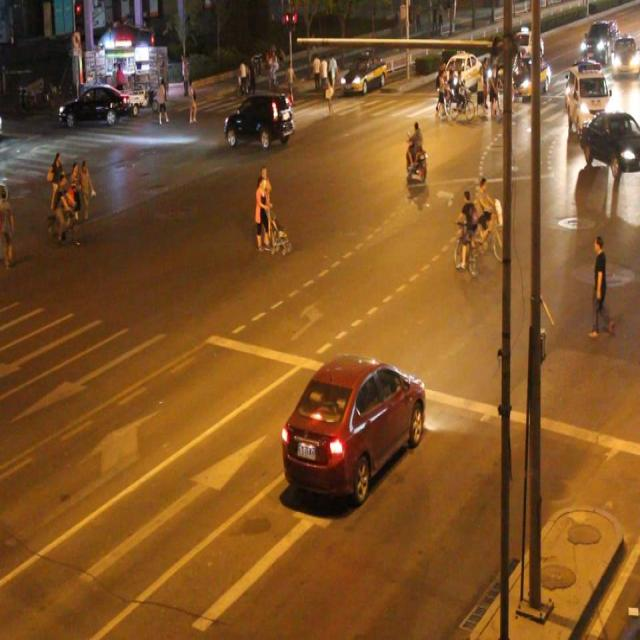car: (278, 351, 424, 502), (578, 110, 640, 179), (224, 93, 295, 146), (564, 63, 610, 134)
